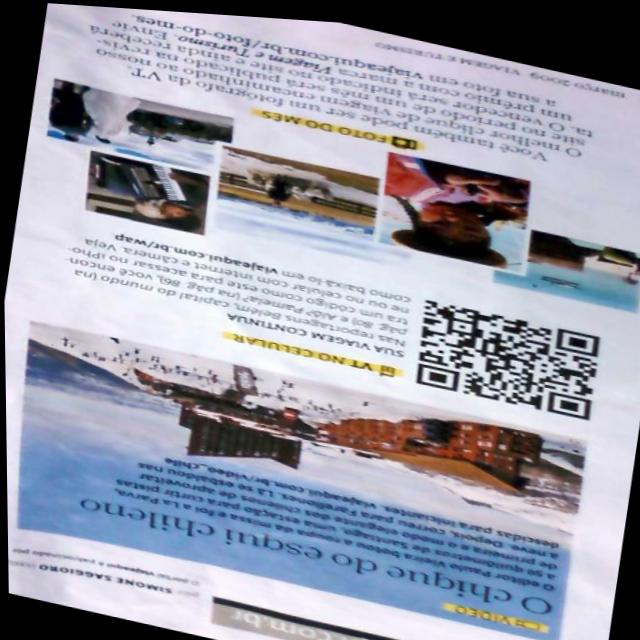qrcode: (412, 292, 600, 414)
